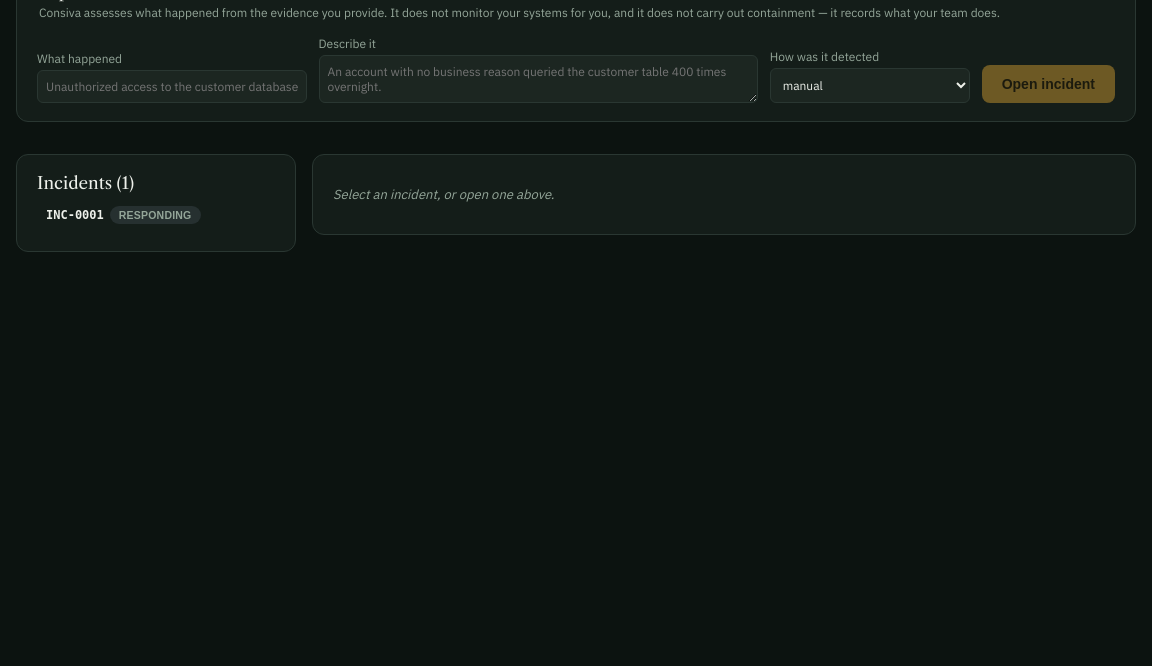
Test: BreachConsole: a failed section fetch must not look like an empty one › shows a distinct error, not 'No evidence filed yet.', when the evidence fetch fails
This screenshot has width=1152, height=666.
Click the button "INC-0001 responding".
click(156, 215)  # box [37,197,275,233]
(page scrolled)
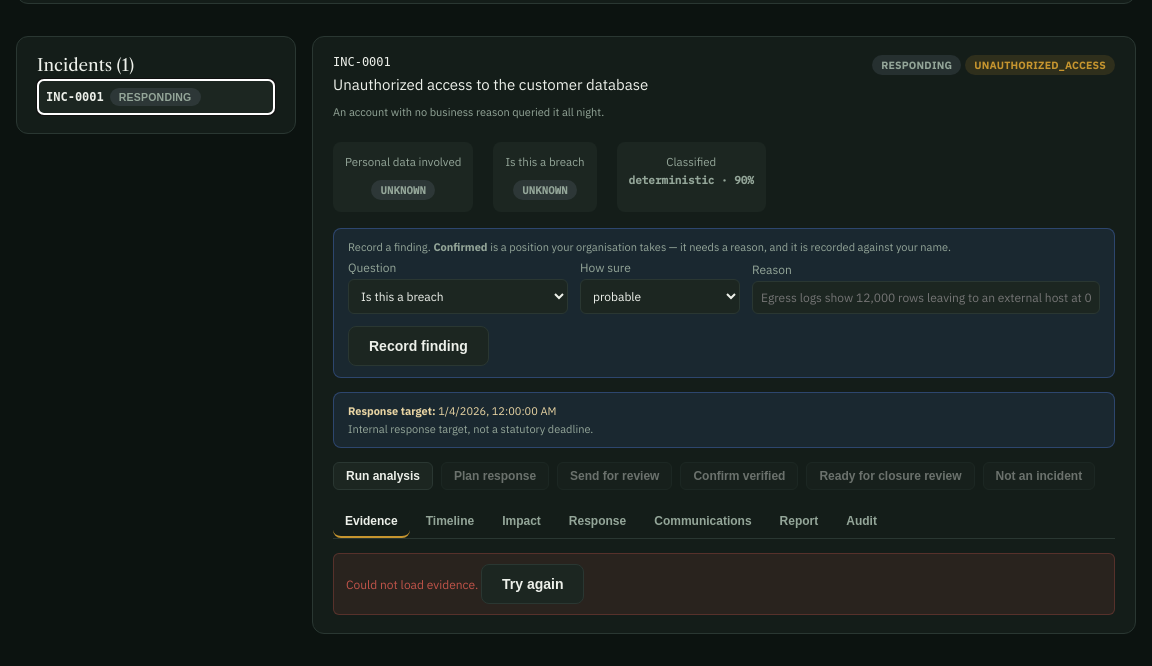
Expected: the text "No evidence filed yet." is not shown
Expected: the text "Could not load evidence." is shown, [333,553,1115,615]
Click the button "Try again".
click(533, 584)  # box [481,564,584,604]
(page scrolled)
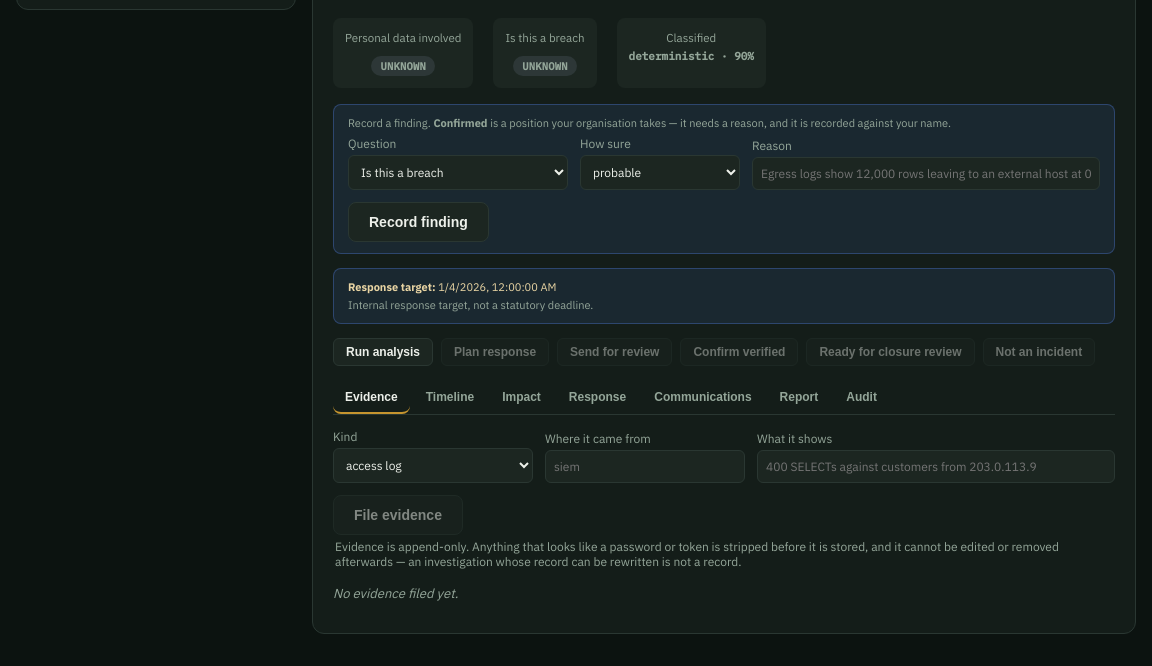
Expected: the text "No evidence filed yet." is shown, [333,585,458,602]
Expected: the text "Could not load evidence." is gone
